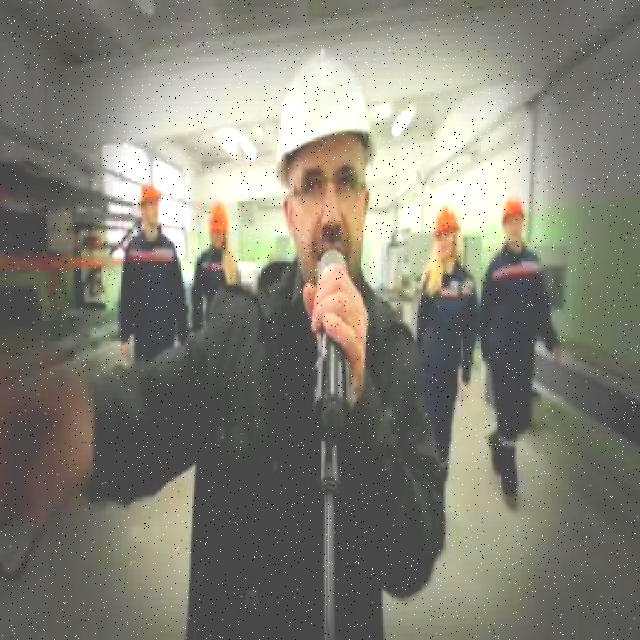Helmet: (274, 46, 380, 196), (206, 202, 231, 230), (434, 208, 462, 232), (134, 182, 164, 200), (503, 199, 526, 221)
Mask: (478, 248, 560, 490), (415, 266, 480, 474), (118, 235, 191, 356), (189, 246, 246, 316)
